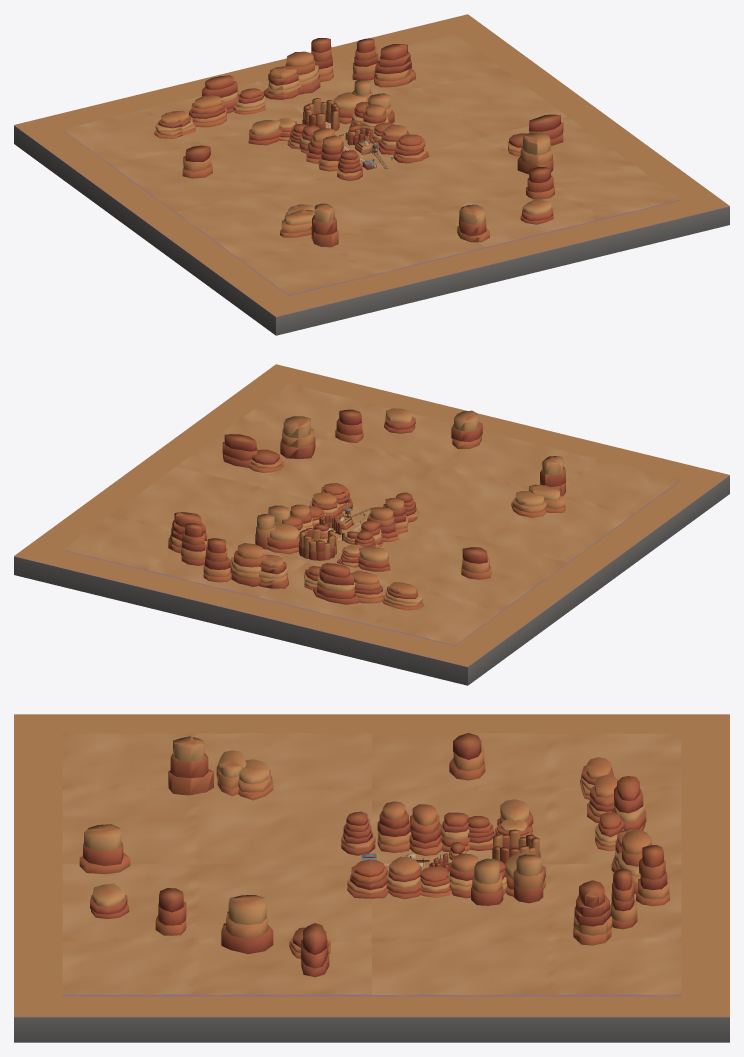
The picture shows the model from 3 angles, top to bottom: view 1: azimuth 30°, elevation 25°; view 2: azimuth 150°, elevation 25°; view 3: azimuth 270°, elevation 25°; orthographic projection. The views are drawn at different scales.
Visible parts, largest first — view 1: near-placeholder; view 2: near-placeholder; view 3: near-placeholder.
Part boxes in pixels (x1,y1,x2,y2): near-placeholder: (14, 14, 729, 335); near-placeholder: (14, 364, 729, 685); near-placeholder: (14, 714, 729, 1042).
Bounding box in the file's own units: 500 × 58.2 × 500.
